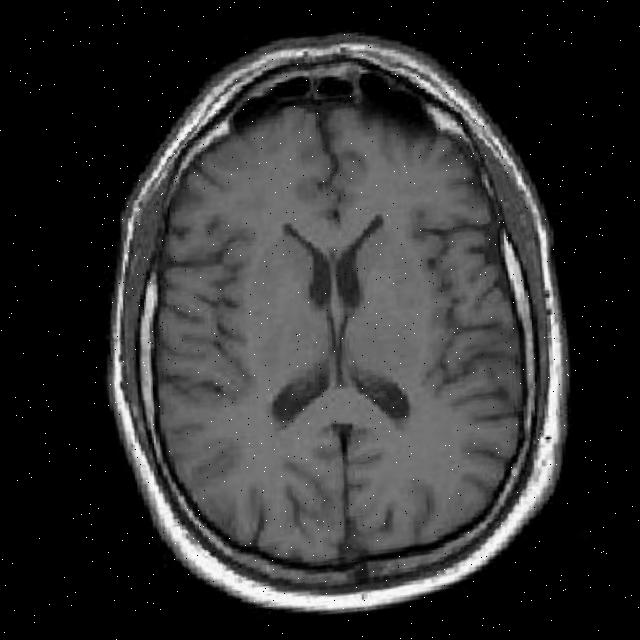NoTumor: (128, 71, 540, 589)
